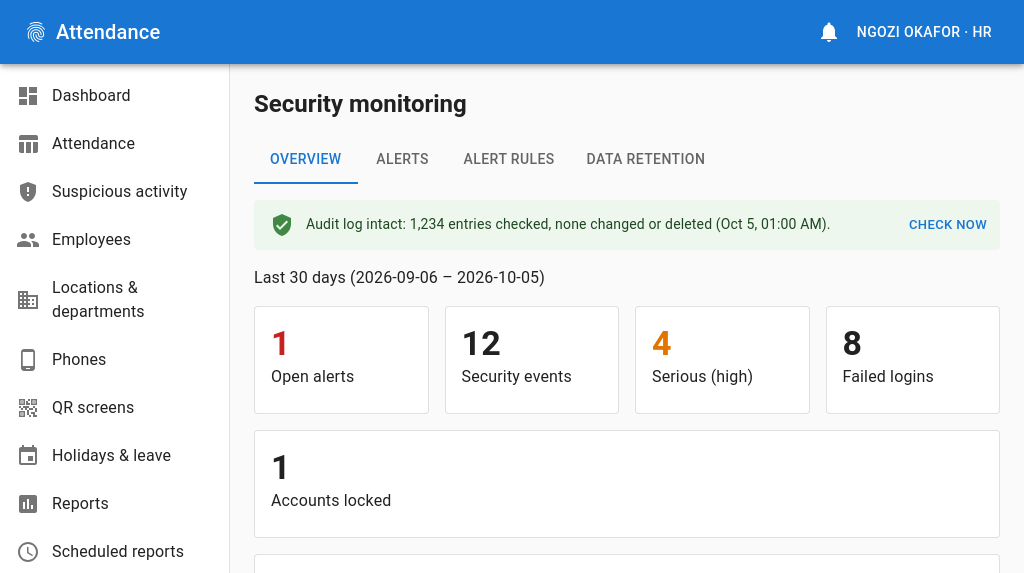
Test case: Security monitoring › only an admin can edit retention periods
Click the tab "Data retention": (646, 160) [571, 136, 721, 184]
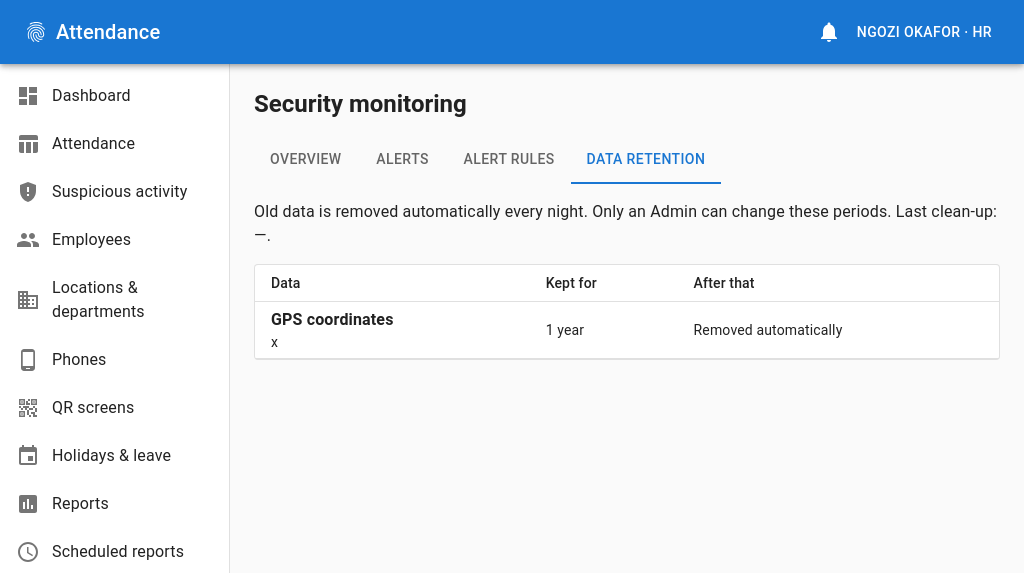
Now the text "1 year" is shown, box [530, 302, 678, 358]
Now the text "Only an Admin can change" is shown, box [592, 202, 892, 221]
